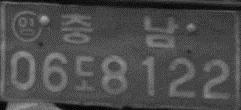0: (8, 49, 36, 91)
1: (135, 56, 163, 97)
2: (167, 57, 198, 98), (201, 58, 231, 100)
6: (42, 51, 68, 94)
8: (99, 54, 129, 97)
도: (72, 55, 98, 93)
영: (11, 10, 43, 44)
충남_D: (60, 11, 178, 48)
